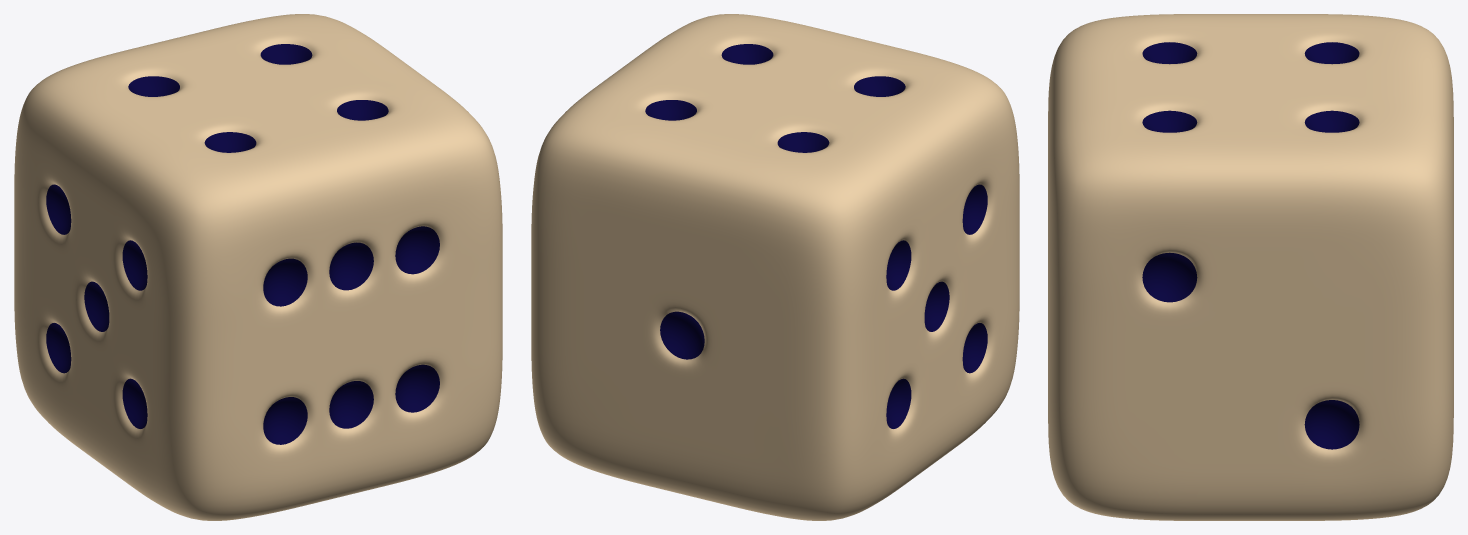
Rendered from Dice.glb.
The picture shows the model from 3 angles, left to right: view 1: azimuth 30°, elevation 25°; view 2: azimuth 150°, elevation 25°; view 3: azimuth 270°, elevation 25°; orthographic projection. The views are drawn at different scales.
Visible parts, largest first — view 1: Cube.004; view 2: Cube.004; view 3: Cube.004.
Boxes of the visible parts, bbox=[...] form: Cube.004: bbox=[14, 14, 502, 520]; Cube.004: bbox=[531, 14, 1019, 520]; Cube.004: bbox=[1048, 14, 1453, 520].
Size of the model in its own units: 2 by 2 by 2.
